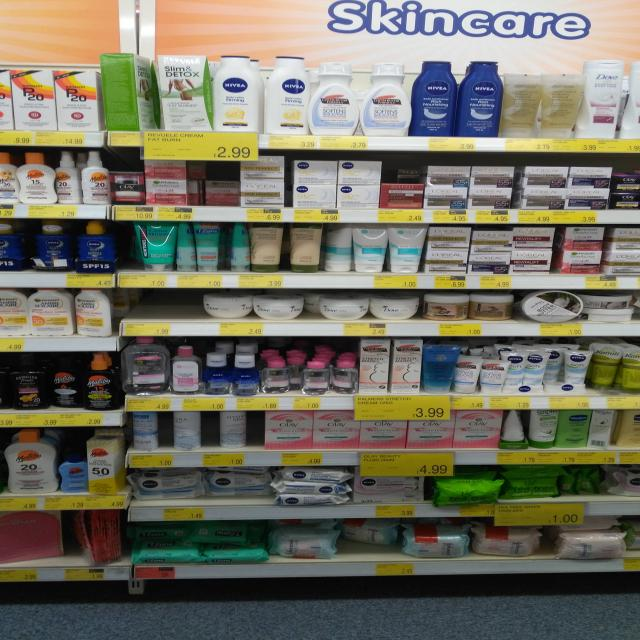unorganised: (129, 412, 262, 450), (99, 51, 158, 131), (264, 52, 310, 135), (72, 508, 129, 568), (502, 345, 563, 393), (272, 469, 355, 503), (551, 527, 626, 561), (433, 474, 506, 508), (594, 344, 640, 394), (72, 286, 114, 339), (342, 524, 402, 555), (262, 357, 302, 396), (321, 224, 352, 274), (55, 151, 81, 206), (187, 523, 247, 546), (329, 354, 360, 398), (226, 222, 250, 275), (174, 219, 197, 274), (501, 409, 530, 451), (202, 177, 239, 206), (590, 408, 613, 450), (386, 164, 421, 183), (301, 292, 324, 319)
